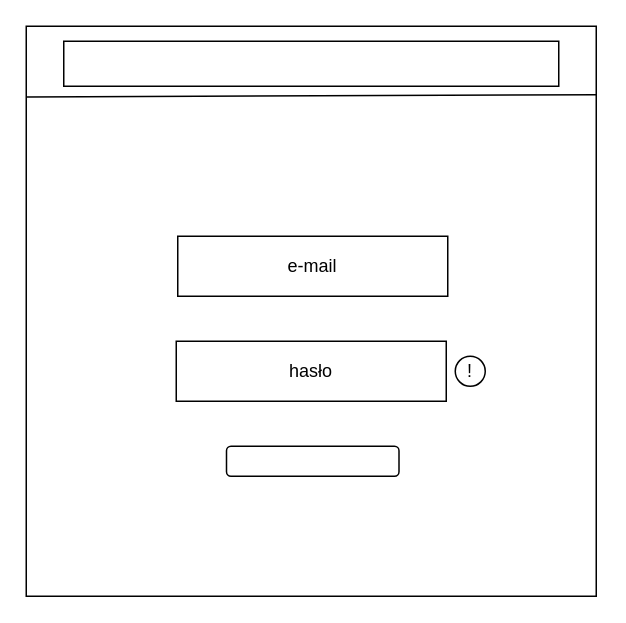
This 626x623 diagram has some shape labels left out. The shapes that lost their labels are listed below. From the top down, each one's centre as x and y in pixels, then its label:
At point (310, 63): "Logo".
At point (312, 460): "Zaloguj się".
